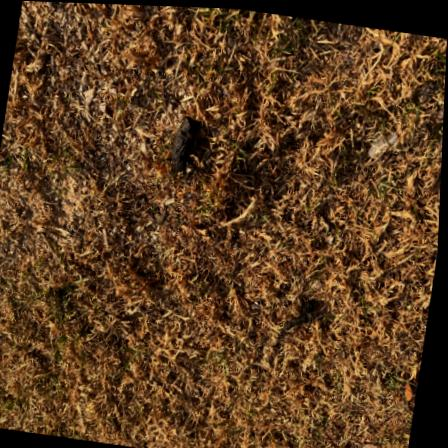dog-poop: (163, 114, 206, 181), (281, 286, 326, 335)
